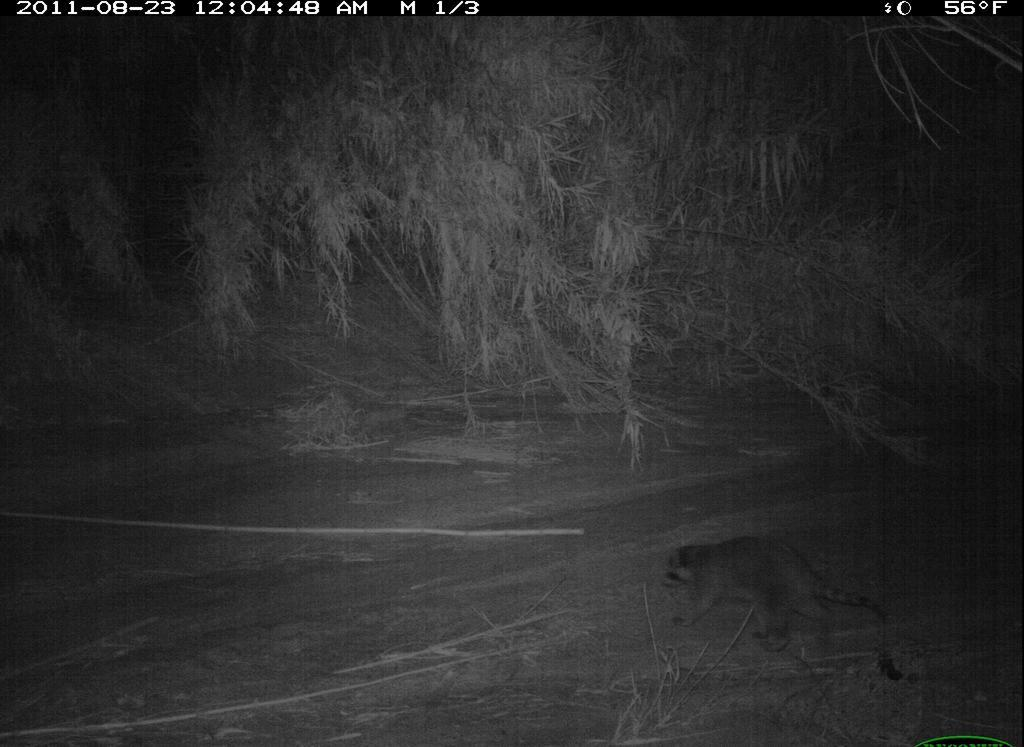raccoon: (656, 532, 892, 657)
